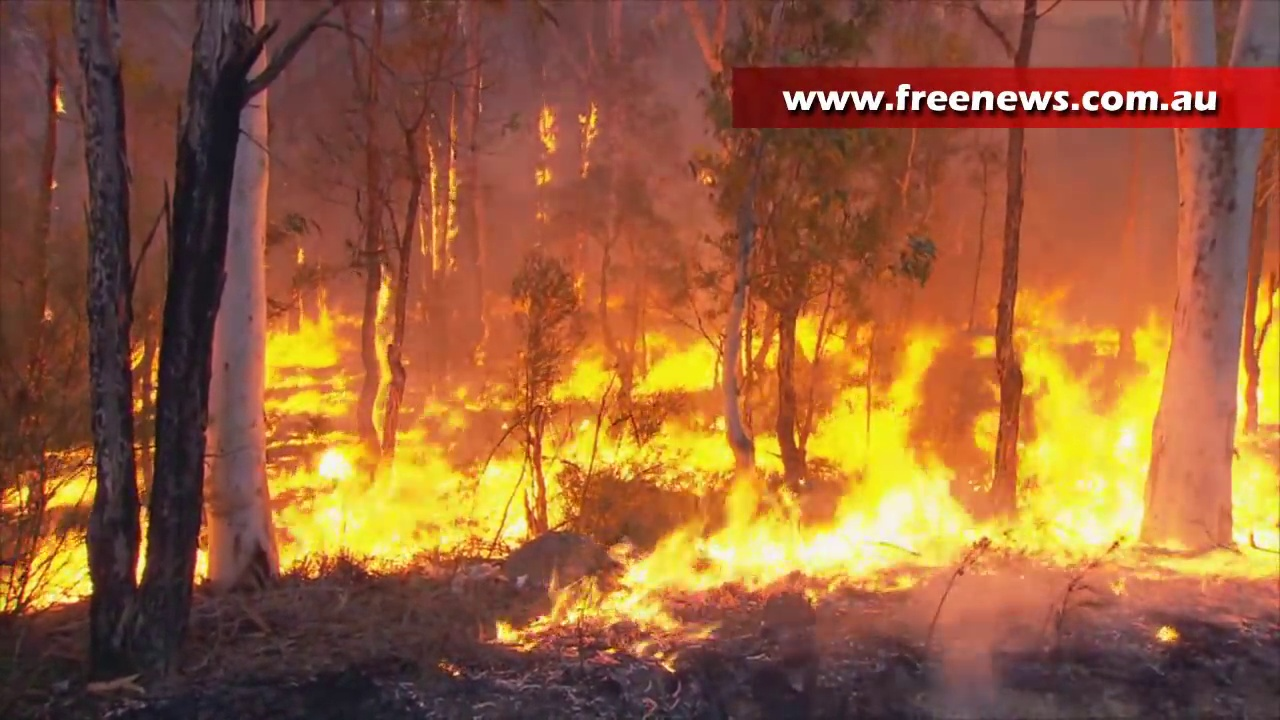fire: (543, 310, 973, 636), (970, 288, 1280, 576), (270, 430, 549, 577), (1, 449, 93, 608), (549, 321, 720, 400), (261, 293, 354, 420), (419, 138, 458, 271), (376, 278, 390, 430), (539, 112, 554, 152), (580, 111, 597, 146)
